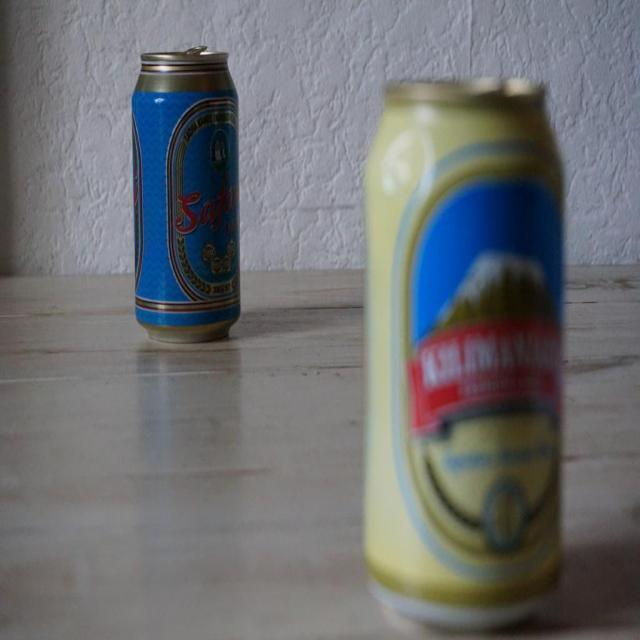metal-can: (350, 70, 576, 627), (124, 34, 261, 351)
